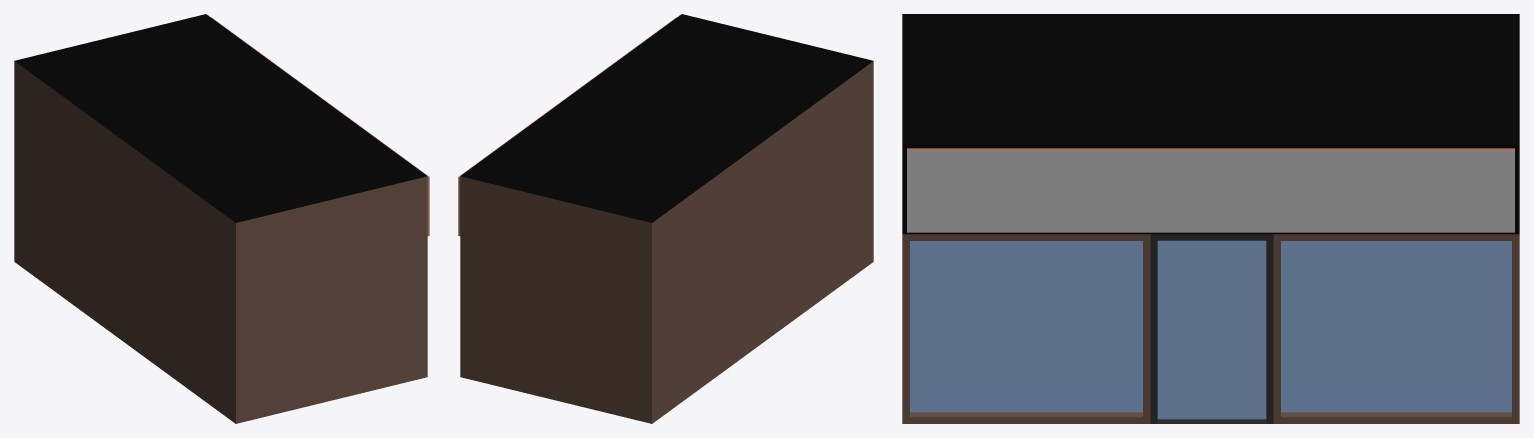
File: Store.fbx
The picture shows the model from 3 angles, left to right: view 1: azimuth 30°, elevation 25°; view 2: azimuth 150°, elevation 25°; view 3: azimuth 270°, elevation 25°; orthographic projection. The views are drawn at different scales.
Parts seen in each view (by area): view 1: Cube; view 2: Cube; view 3: Cube.
Part boxes in pixels (left/top/right/bottom): Cube: left=14, top=14, right=429, bottom=423; Cube: left=458, top=14, right=873, bottom=423; Cube: left=902, top=14, right=1519, bottom=423.
Bounding box in the file's own units: 204 × 200 × 400.
